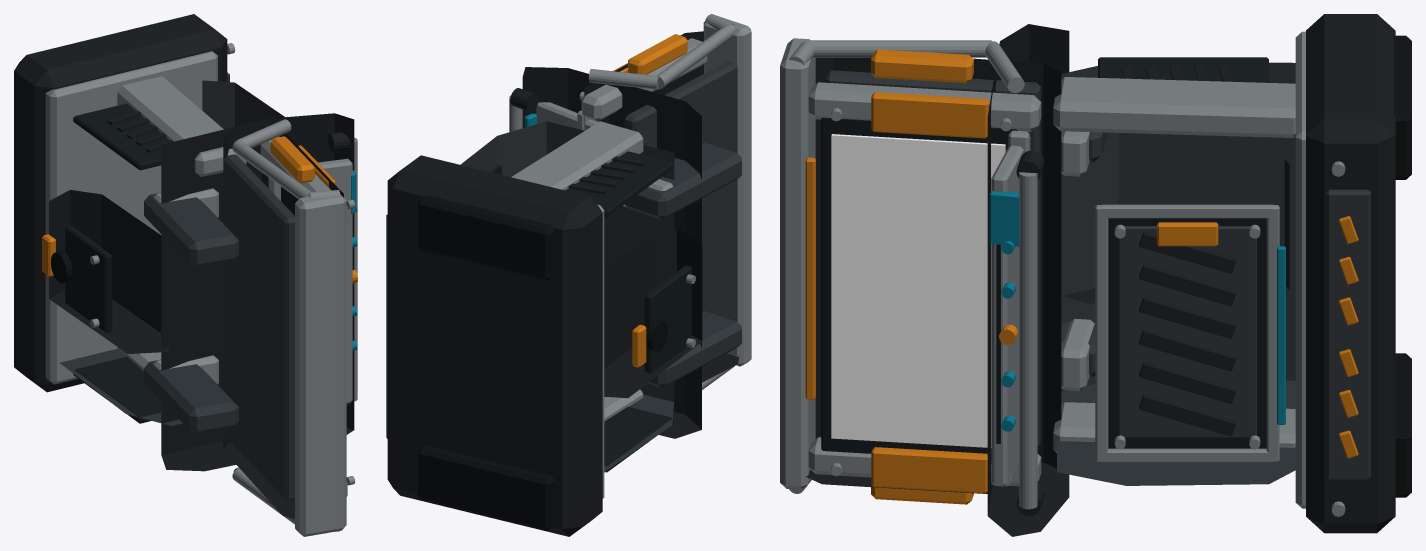
The model's file is SM_SFPPlannerTerminal_r2.obj.
3 renders of one model, left to right at view 1: azimuth 30°, elevation 25°; view 2: azimuth 150°, elevation 25°; view 3: azimuth 270°, elevation 25°, orthographic. The views are drawn at different scales.
Parts seen in each view (by area): view 1: MonitorRearArmor, BaseChassis, MonitorTopHood, ControlDeck, BaseArmorPlate, RearServiceSpine, CabinetPostRight, RearStrutLeft, RearStrutRight, CabinetShell, RearAccessPlate, CabinetSidePanelLeft (+13 smaller); view 2: BaseChassis, MonitorRearArmor, RearServiceSpine, ControlDeck, RubberFootRight, RubberFootLeft, CabinetShell, MonitorTopHood, CabinetPostRight, RearStrutRight, RearAccessPlate, RearStrutLeft (+14 smaller); view 3: ScreenDisplay, BaseChassis, CabinetShell, ServiceDoorInner, MonitorShell, CabinetPostRight, MonitorTopHood, BaseFrontFascia, ServiceDoor, MonitorGlassRecess, ControlDeck, ControlGrabBar (+33 smaller).
Part boxes in pixels (<box>): MonitorRearArmor: <box>224,154,294,500</box>; BaseChassis: <box>14,14,227,392</box>; MonitorTopHood: <box>295,194,346,536</box>; ControlDeck: <box>161,113,354,471</box>; BaseArmorPlate: <box>45,51,217,384</box>; RearServiceSpine: <box>49,190,169,353</box>; CabinetPostRight: <box>117,76,246,176</box>; RearStrutLeft: <box>144,359,238,434</box>; RearStrutRight: <box>144,192,238,267</box>; CabinetShell: <box>59,80,284,425</box>; RearAccessPlate: <box>65,225,112,332</box>; CabinetSidePanelLeft: <box>73,356,161,423</box>; BaseChassis: <box>387,155,602,536</box>; MonitorRearArmor: <box>624,61,737,321</box>; RearServiceSpine: <box>604,228,702,398</box>; ControlDeck: <box>522,67,701,438</box>; RubberFootRight: <box>418,195,555,280</box>; RubberFootLeft: <box>418,445,555,530</box>; CabinetShell: <box>460,121,674,472</box>; MonitorTopHood: <box>703,15,751,366</box>; CabinetPostRight: <box>511,121,643,190</box>; RearStrutRight: <box>625,142,741,219</box>; RearAccessPlate: <box>644,265,691,373</box>; RearStrutLeft: <box>647,311,741,387</box>; ScreenDisplay: <box>831,134,1005,447</box>; BaseChassis: <box>1306,14,1395,533</box>; CabinetShell: <box>1057,62,1295,485</box>; ServiceDoorInner: <box>1118,226,1256,437</box>; MonitorShell: <box>805,57,1061,495</box>; CabinetPostRight: <box>1053,77,1295,137</box>; MonitorTopHood: <box>780,38,815,489</box>; BaseFrontFascia: <box>1326,189,1370,479</box>; ServiceDoor: <box>1108,218,1266,448</box>; MonitorGlassRecess: <box>821,117,1017,453</box>; ControlDeck: <box>987,24,1069,536</box>; ControlGrabBar: <box>1019,172,1037,509</box>.
Bounding box in the file's own units: 81.25 × 120 × 155.
